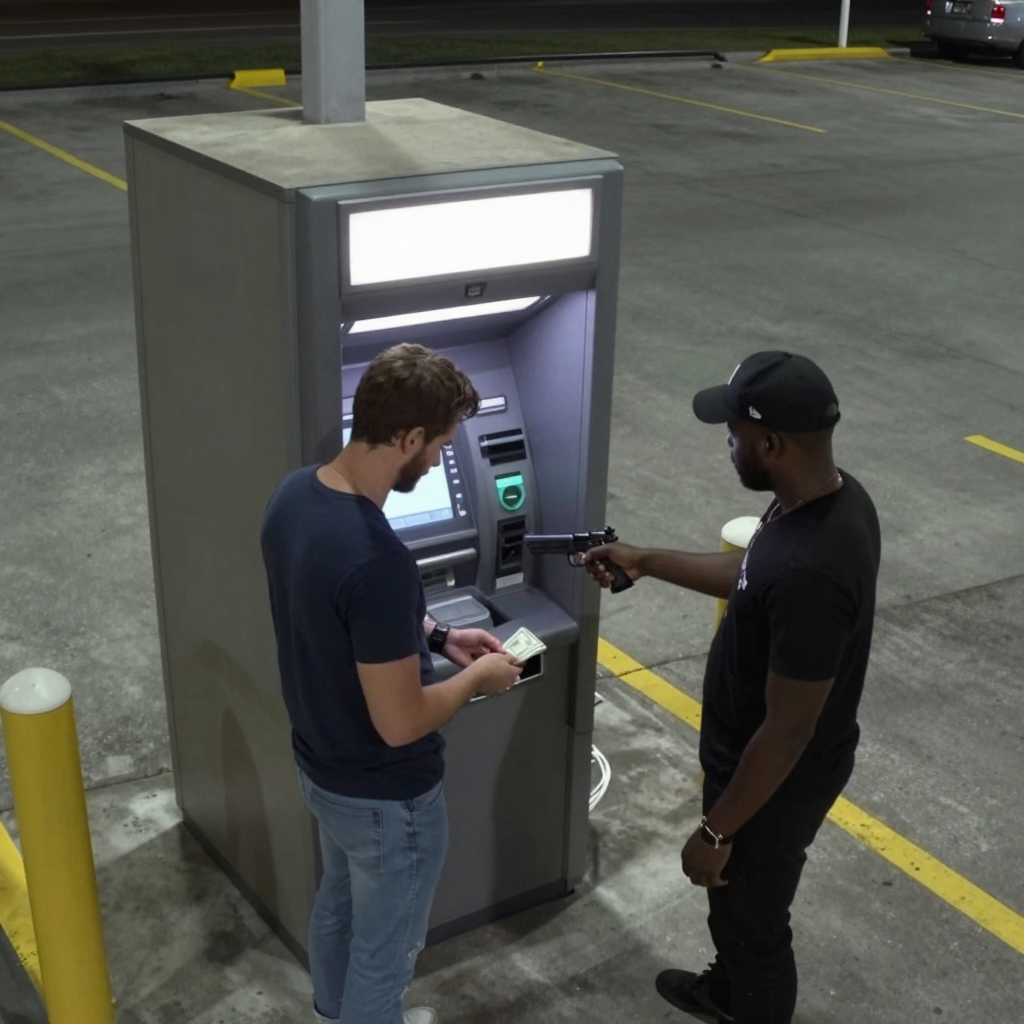Robbery: (576, 349, 882, 1024), (259, 342, 526, 1024)
Shooting: (520, 527, 635, 598)
